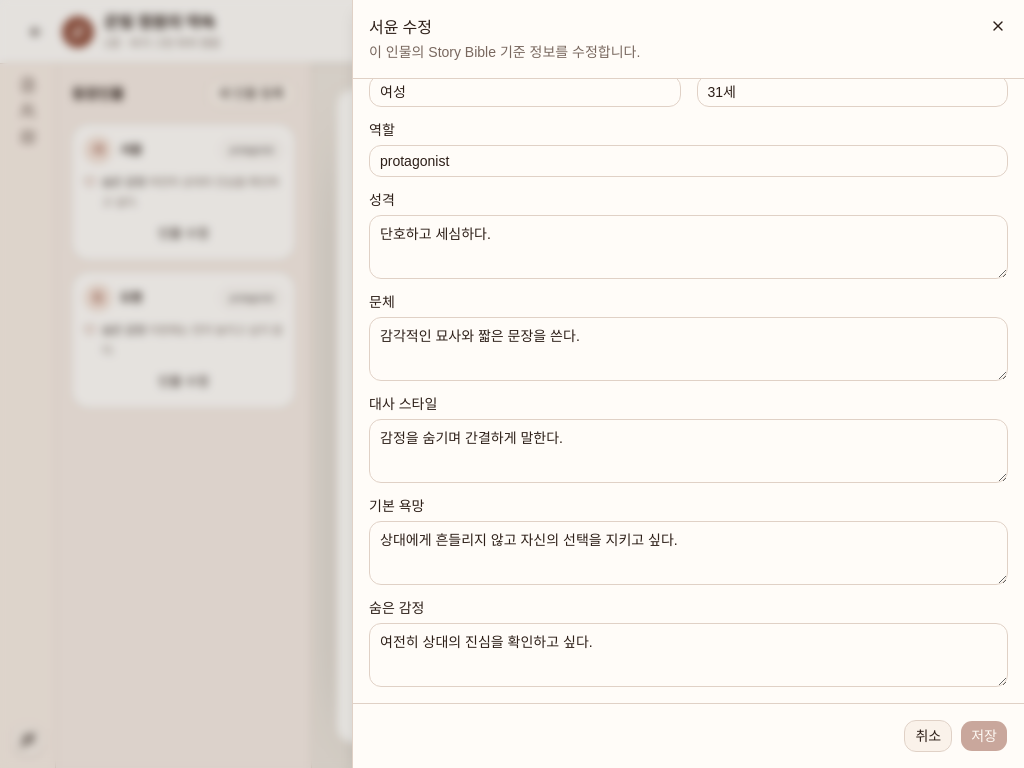
Test: WritingWorkspacePage › edits an initial protagonist and renders the authoritative last-save snapshot
The width and height of the screenshot is (1024, 768).
(page scrolled)
Replace the text in the text box labelled "숨은 감정" with "로컬 마지막 감정" at [688, 655], box [369,623,1008,687]
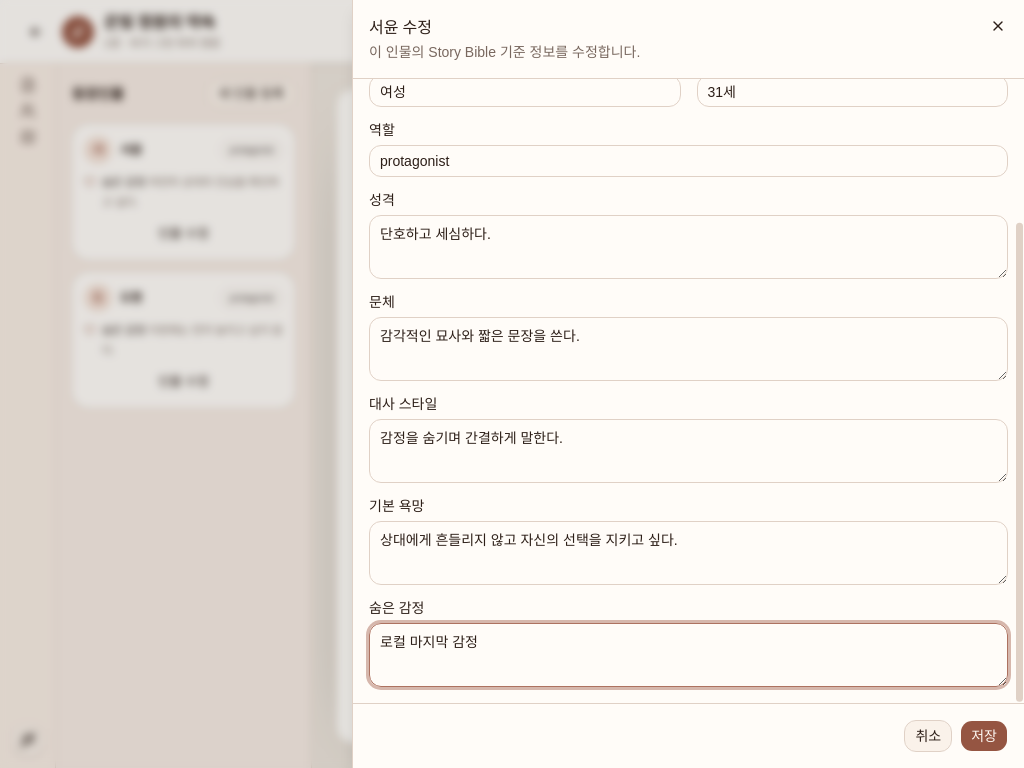
Click the button "저장" at [984, 736], box [960,720,1008,752]
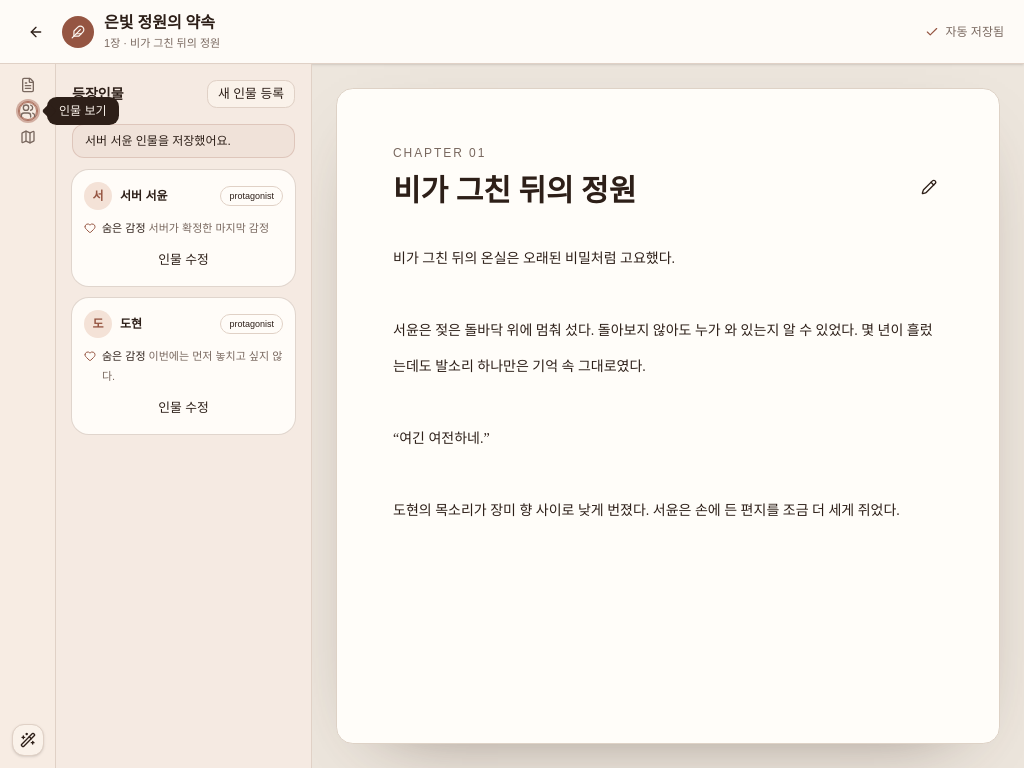
Expected: the button with aria-label "도현 인물 수정" is shown, [84,394,283,422]
Result: the button with aria-label "서버 서윤 인물 수정" is shown at [84,246,283,274]
Result: the text "숨은 감정 서버가 확정한 마지막 감정" is shown at [102,218,269,238]
